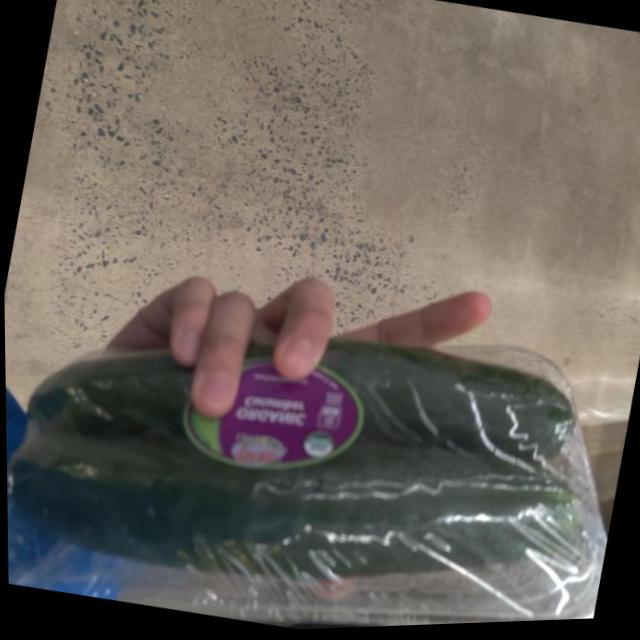Cucumber: (3, 261, 638, 640)
